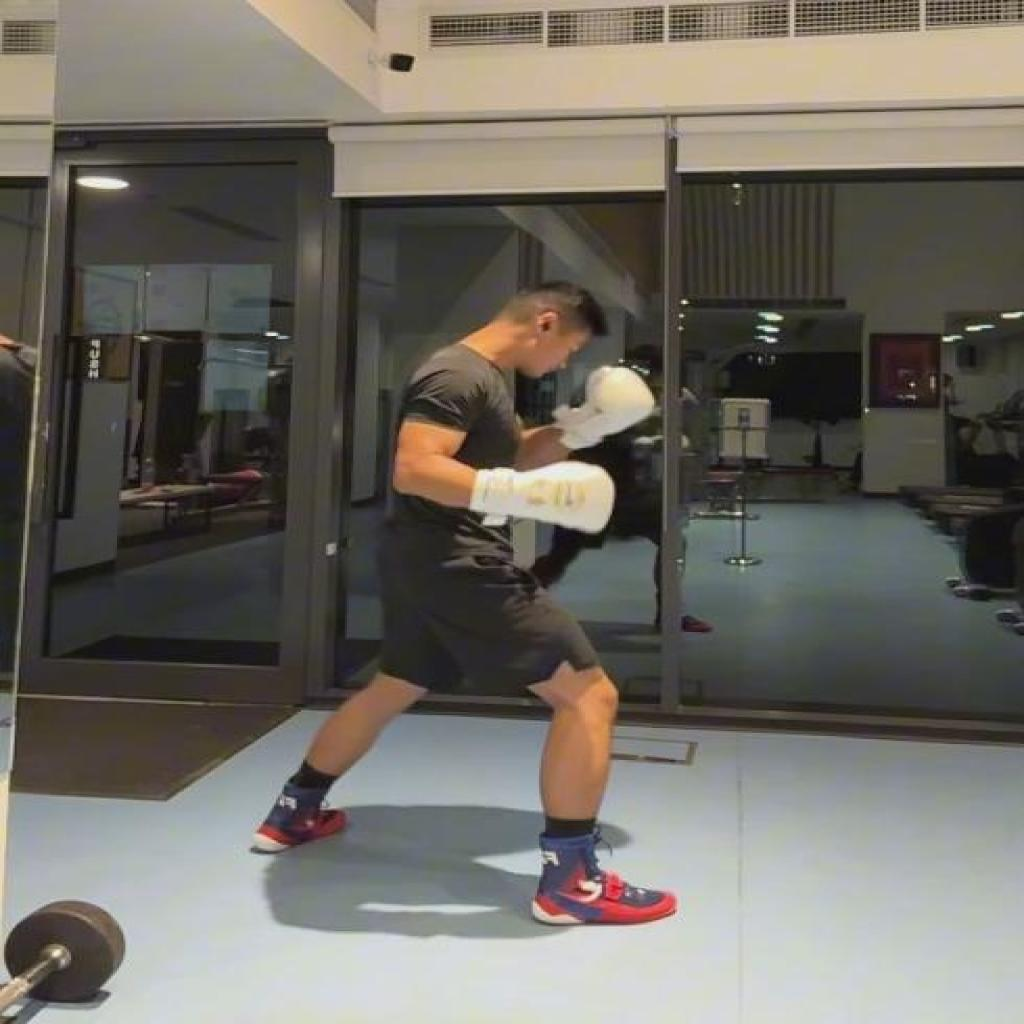no punch: (253, 282, 685, 930)
